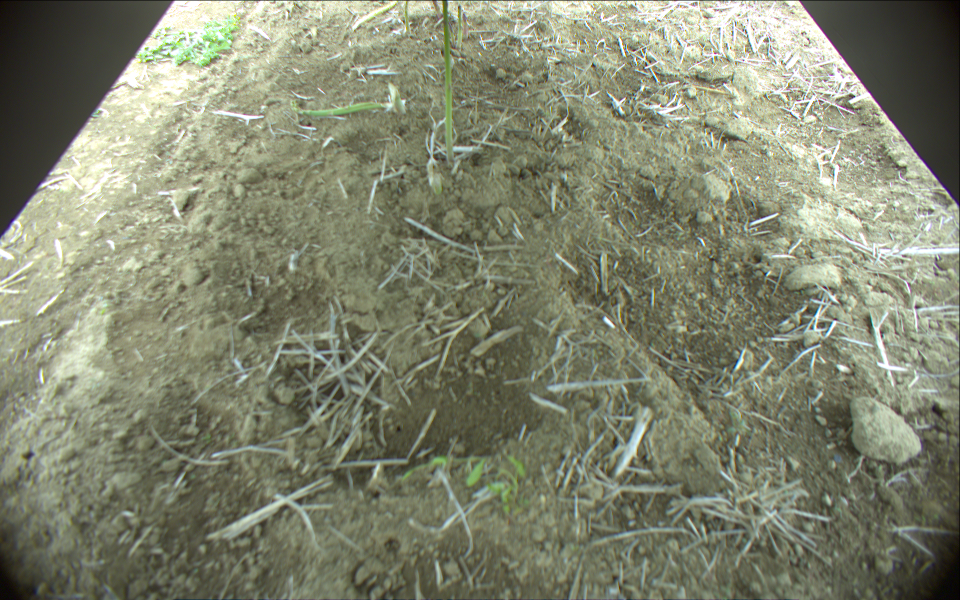aspa: (442, 1, 455, 168), (283, 102, 387, 118), (354, 1, 402, 29), (456, 5, 463, 48), (404, 1, 413, 34), (460, 9, 467, 42)
